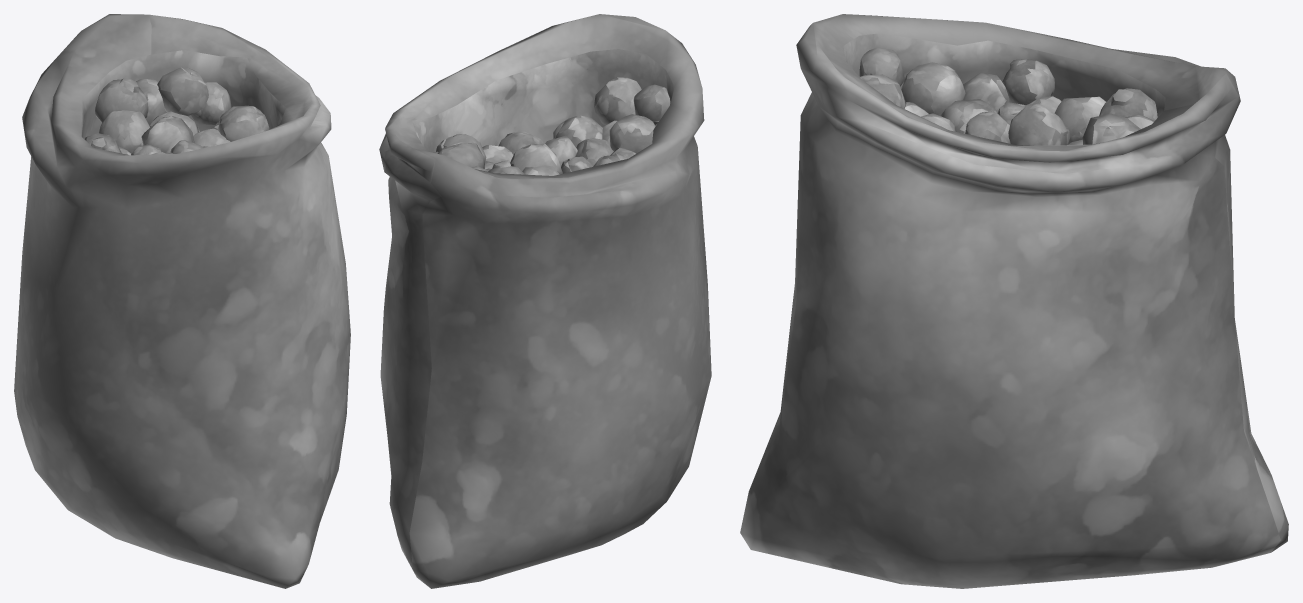
The model's file is SM_Sack_Orange_01a.fbx.
3 renders of one model, left to right at view 1: azimuth 30°, elevation 25°; view 2: azimuth 150°, elevation 25°; view 3: azimuth 270°, elevation 25°, orthographic. The views are drawn at different scales.
Parts seen in each view (by area): view 1: SM_Sack_Orange_01a_LOD0; view 2: SM_Sack_Orange_01a_LOD0; view 3: SM_Sack_Orange_01a_LOD0.
Boxes of the visible parts, box(x1,y1,x2,y2) form: SM_Sack_Orange_01a_LOD0: box(14, 14, 350, 588); SM_Sack_Orange_01a_LOD0: box(379, 14, 711, 588); SM_Sack_Orange_01a_LOD0: box(740, 14, 1288, 588).
Bounding box in the file's own units: 65.83 × 94.51 × 97.29.
